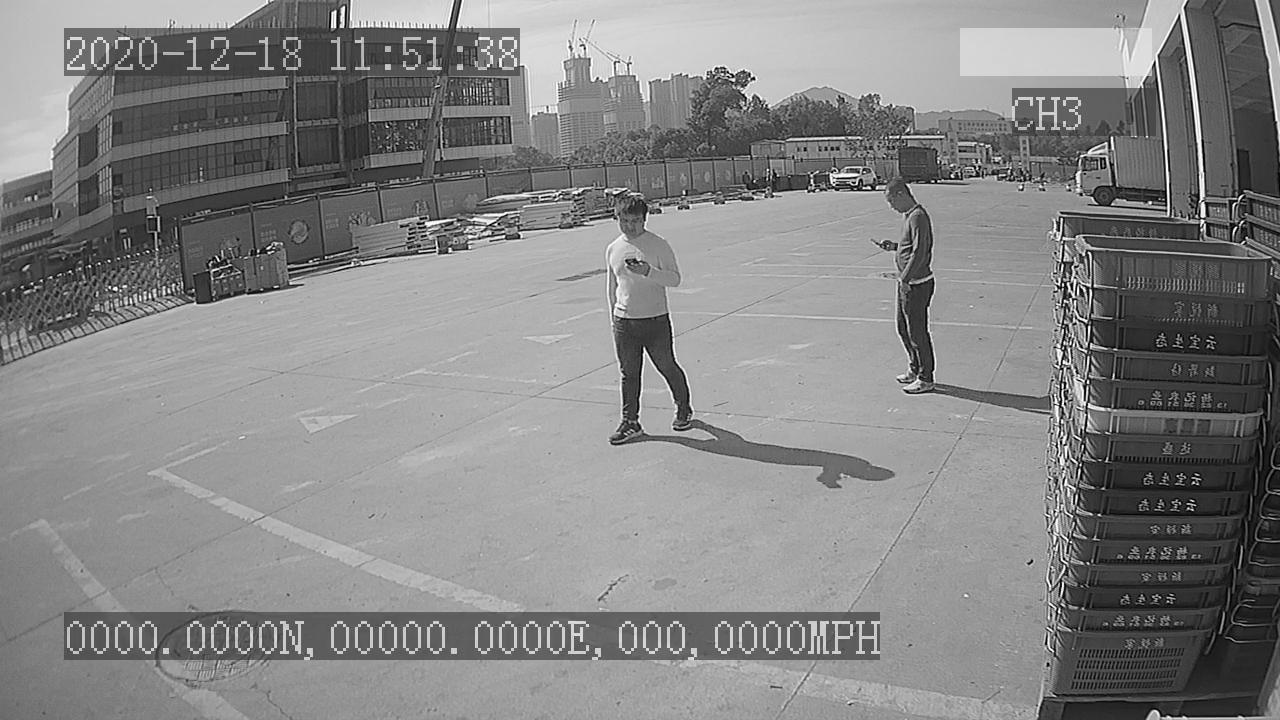person: (593, 192, 699, 447), (865, 172, 947, 403)
